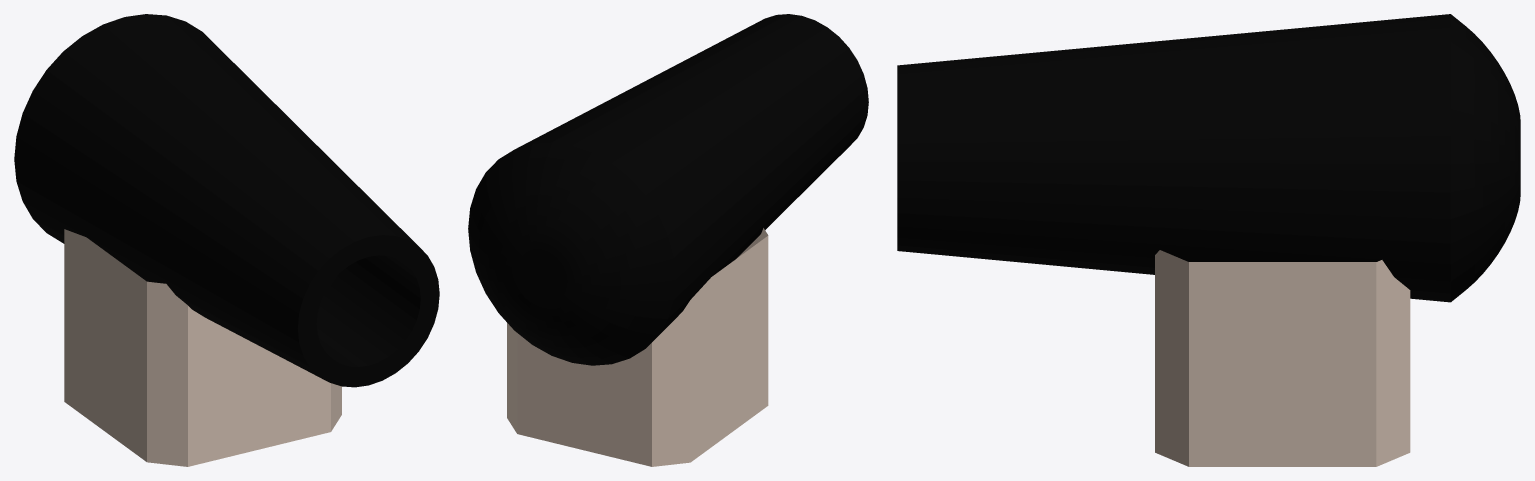
The model's file is can.fbx.
3 renders of one model, left to right at view 1: azimuth 30°, elevation 25°; view 2: azimuth 150°, elevation 25°; view 3: azimuth 270°, elevation 25°, orthographic. The views are drawn at different scales.
Parts seen in each view (by area): view 1: Cylinder; view 2: Cylinder; view 3: Cylinder.
Boxes of the visible parts, bbox=[...] form: Cylinder: bbox=[14, 14, 439, 466]; Cylinder: bbox=[468, 14, 868, 466]; Cylinder: bbox=[897, 14, 1520, 466].
Bounding box in the file's own units: 67.83 × 99.33 × 146.
